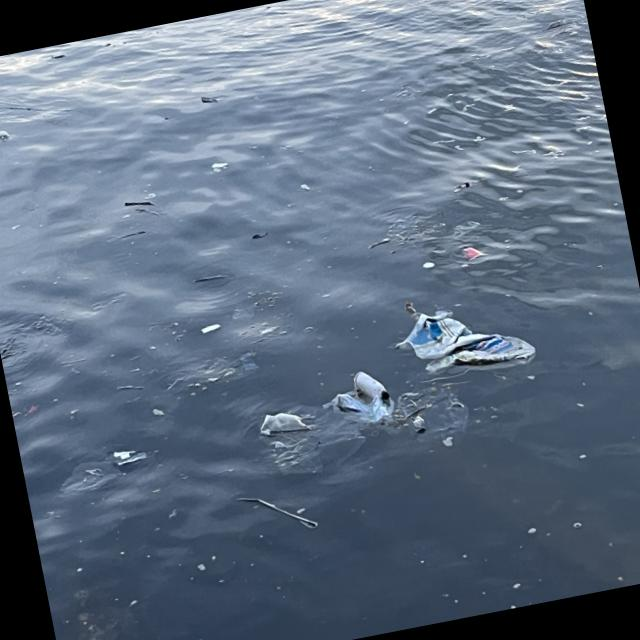foam: (203, 95, 222, 106), (212, 162, 229, 172), (203, 325, 221, 334)
plastic bag: (393, 311, 535, 374)
